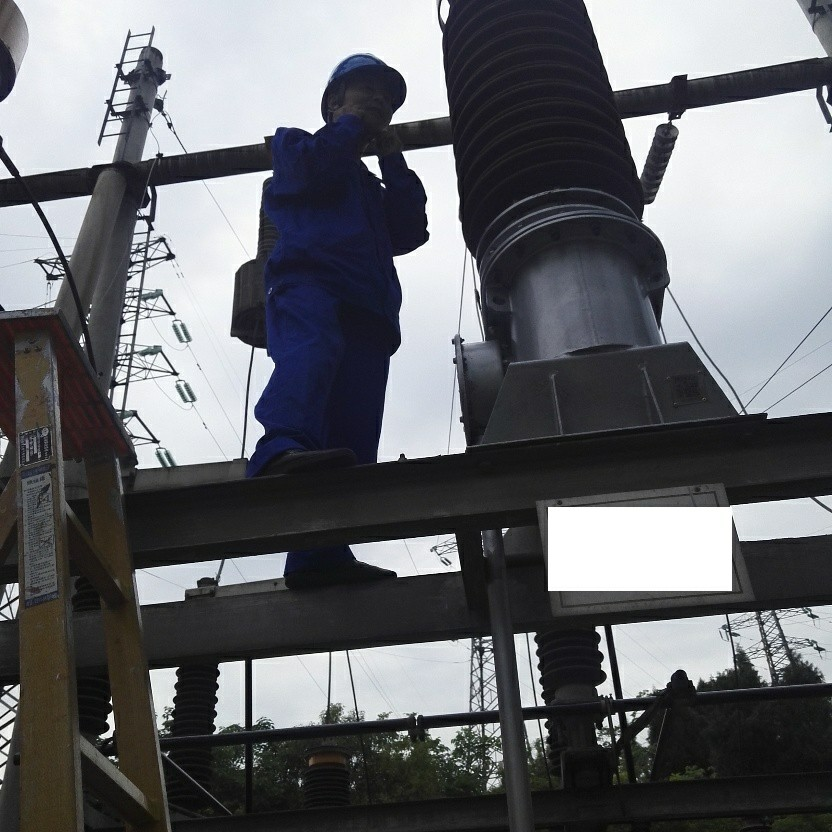hat: (315, 45, 409, 133)
